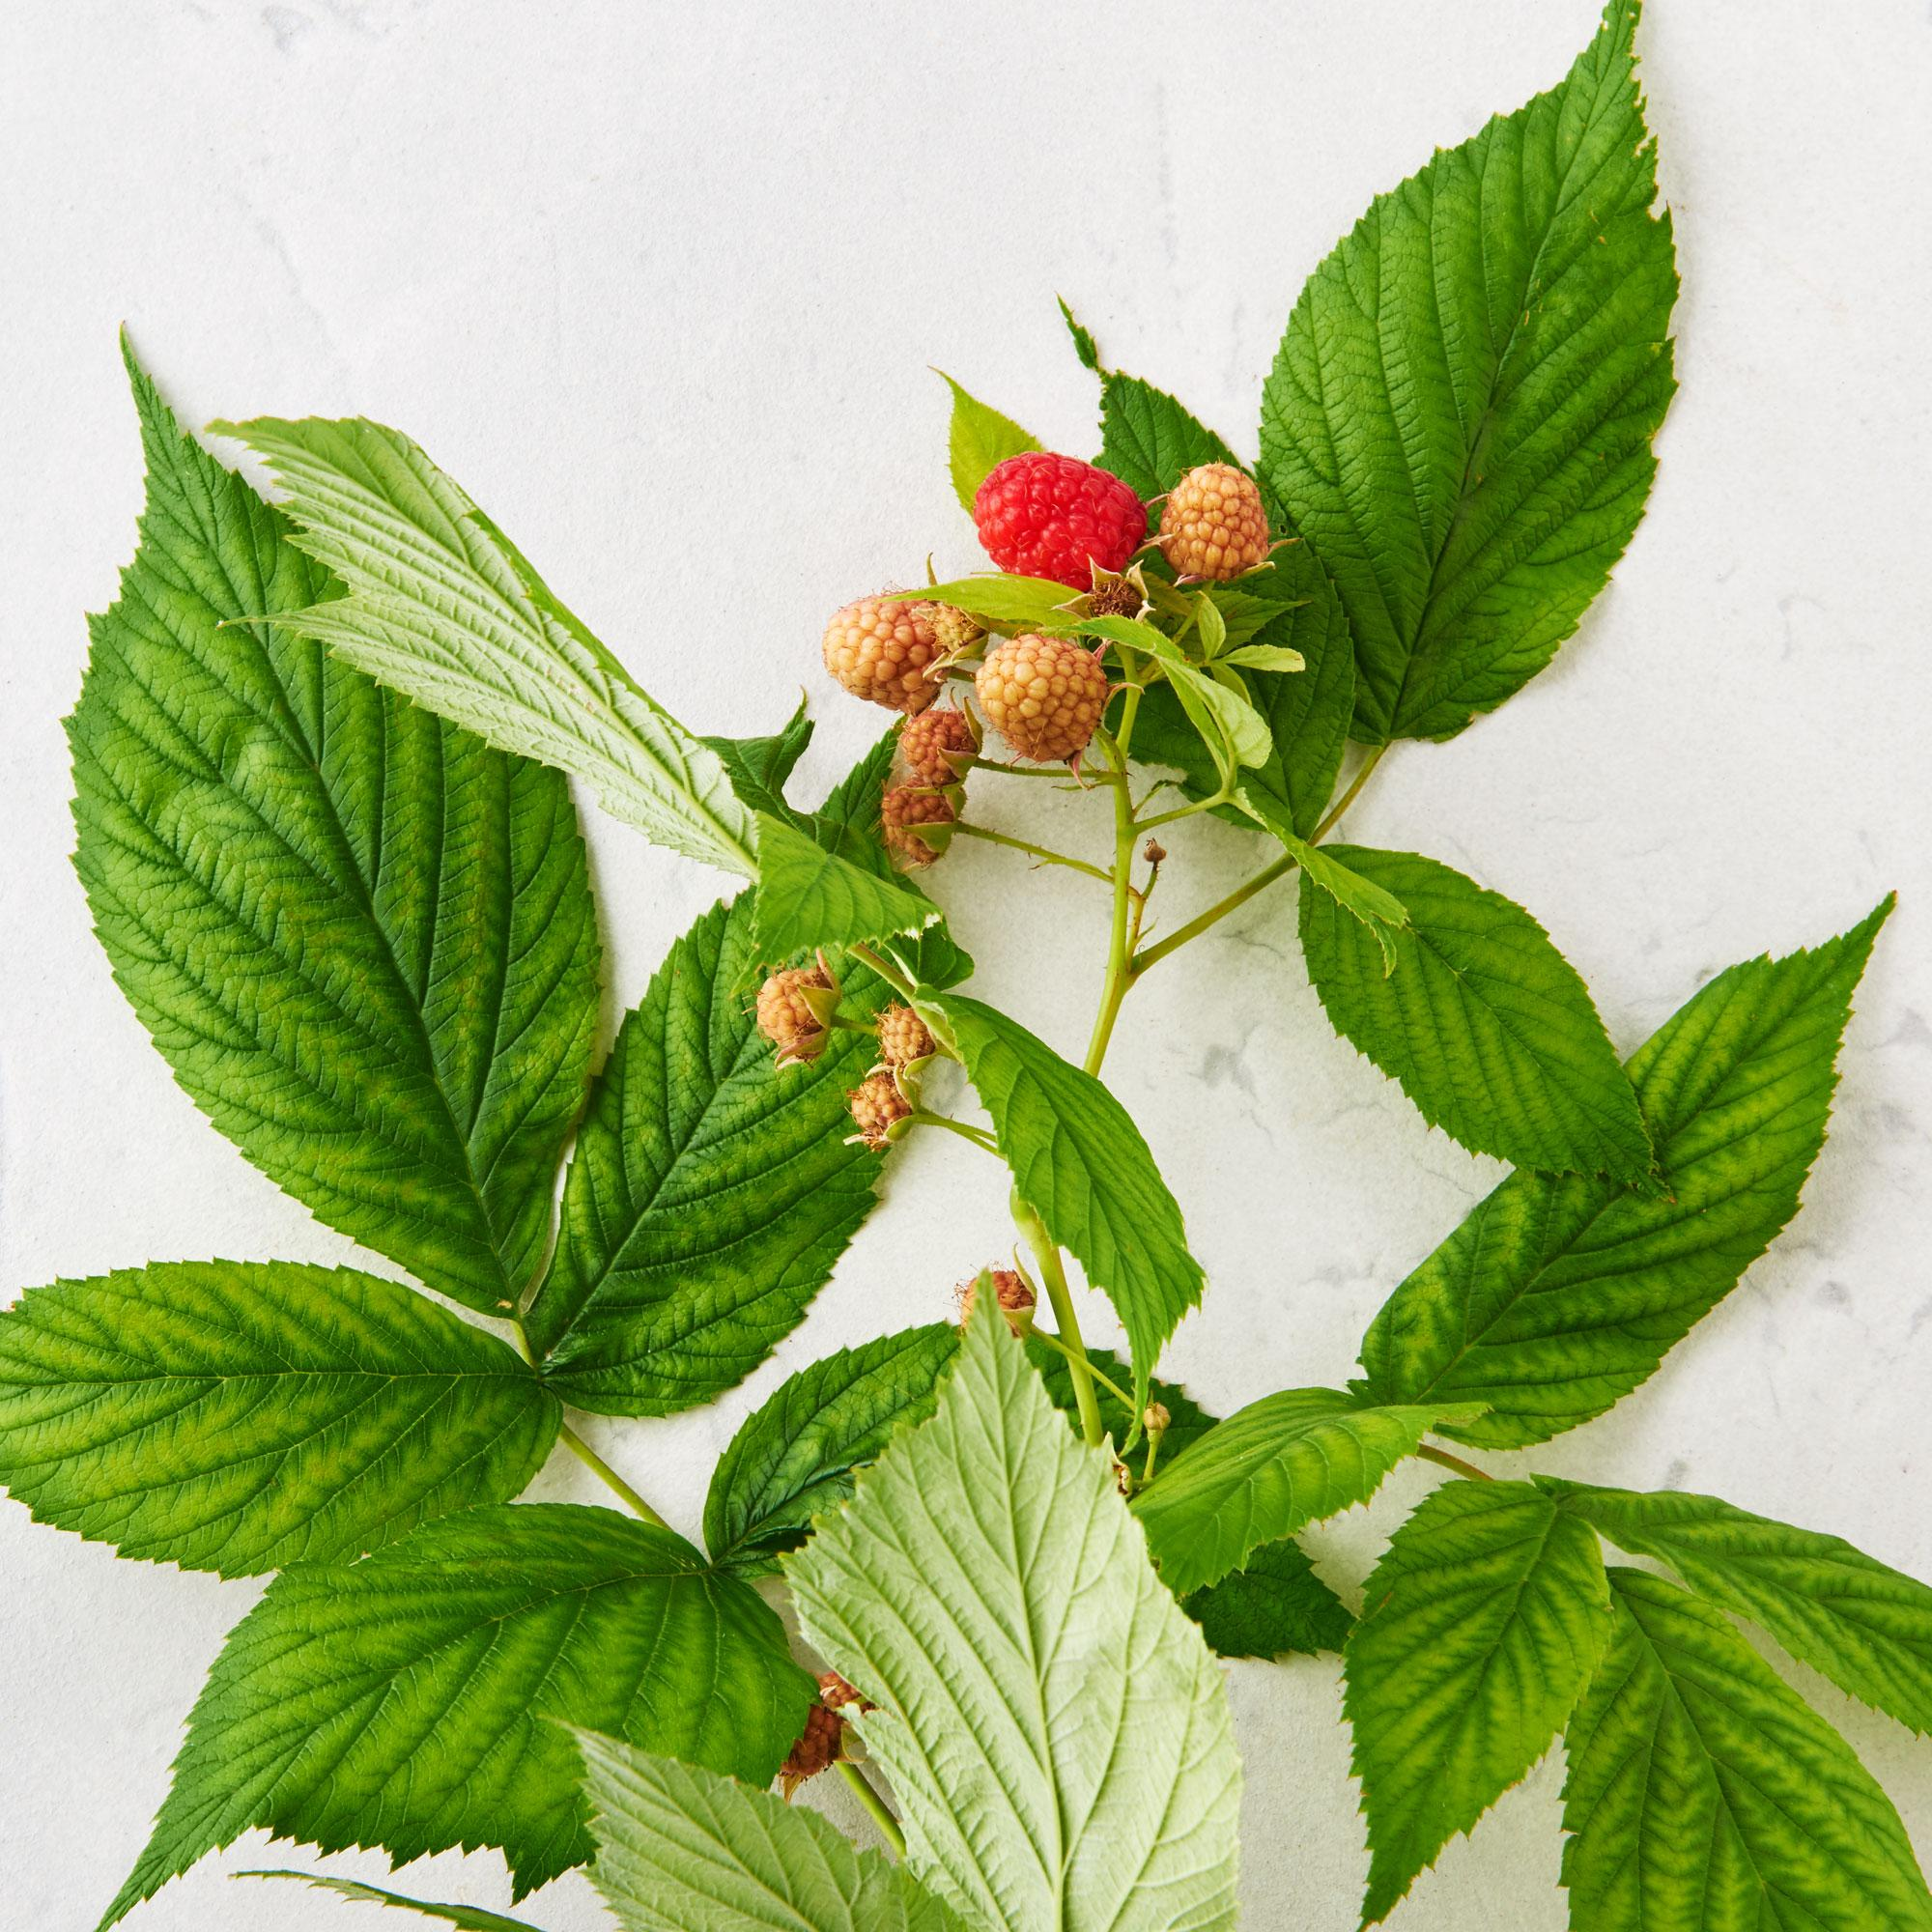Raspberry leaf: (69, 310, 621, 1311), (1238, 2, 1674, 757), (88, 1499, 809, 1932), (538, 743, 927, 1438), (2, 1261, 559, 1580), (1325, 1476, 1612, 1932), (1568, 1557, 1932, 1895)
